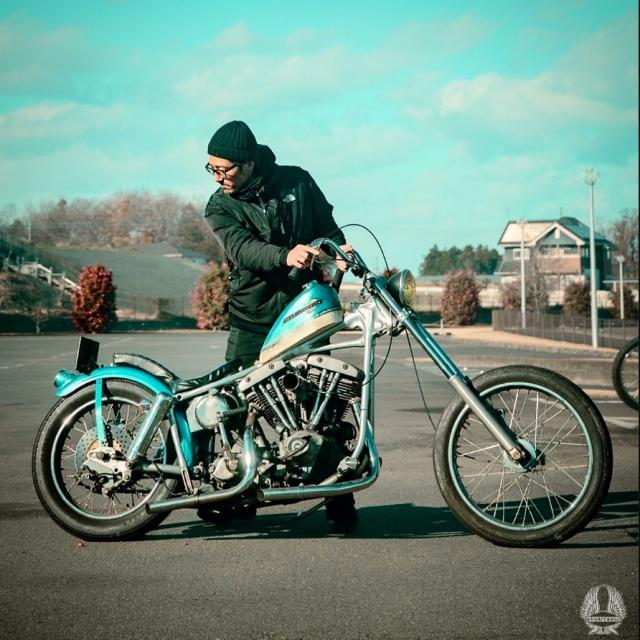illegal_helmet: (202, 116, 261, 198)
